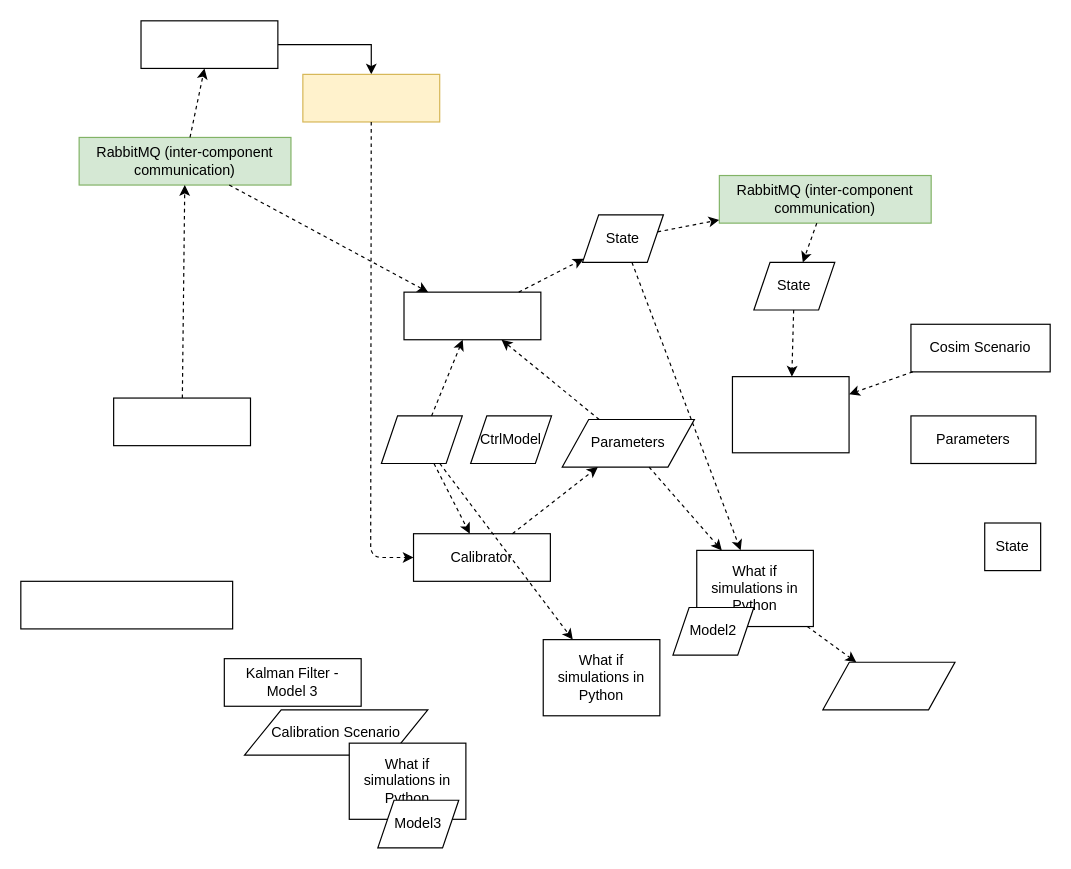
Some shapes in this 1071 by 869 pixel diagram are drawn without their labels. Each missing label, with the centre of its shape:
Data Recorder: (x=209, y=44)
DB: (x=371, y=97)
Kalman Filter: (x=472, y=315)
Physital Twin: (x=181, y=421)
Plant: (x=421, y=439)
Requirements: (x=126, y=604)
Trace: (x=888, y=685)
What if Co-simulation in Maestro V2: (x=790, y=414)
